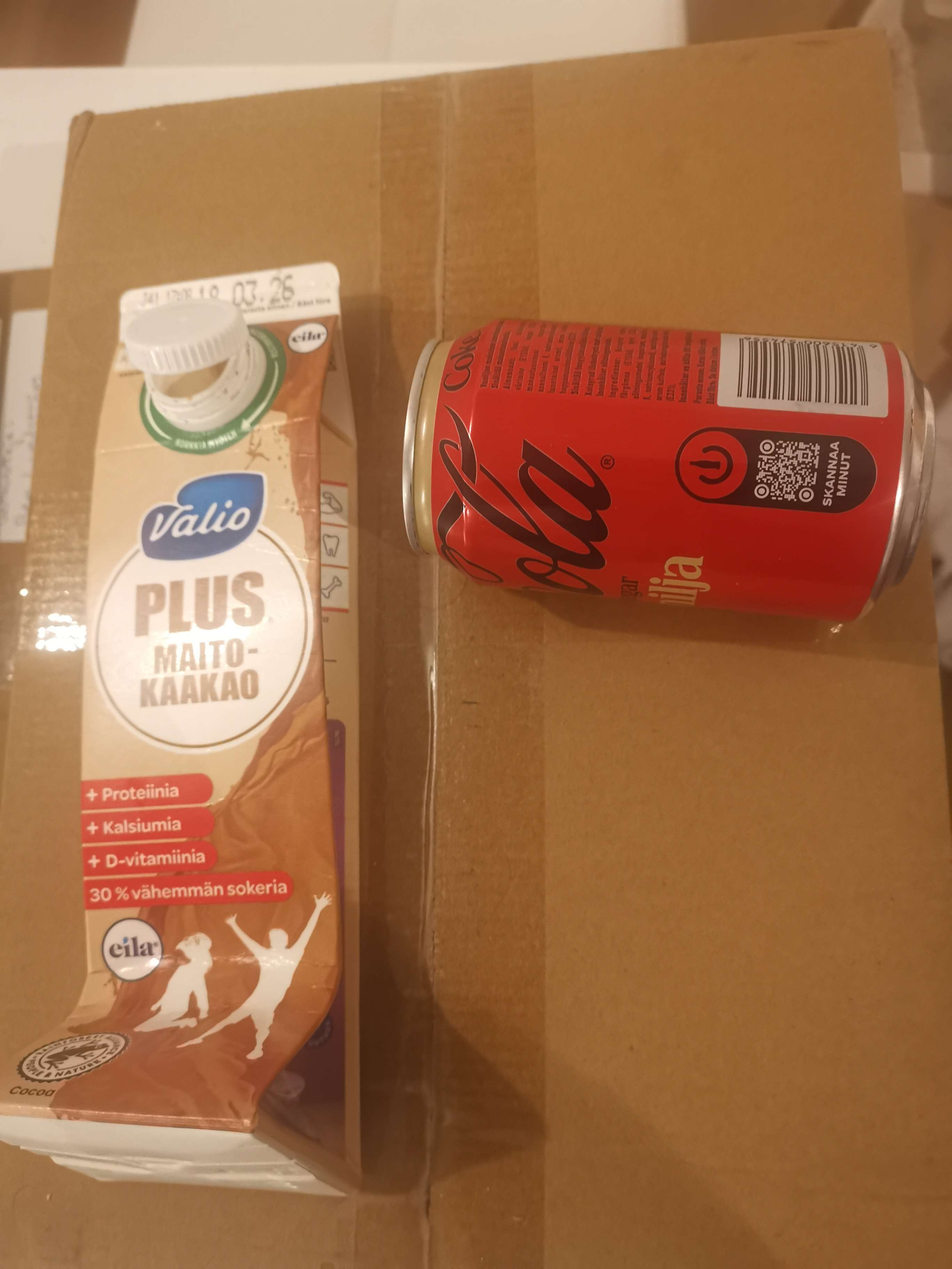Pantburk: (1, 259, 365, 1199), (401, 320, 939, 623)
